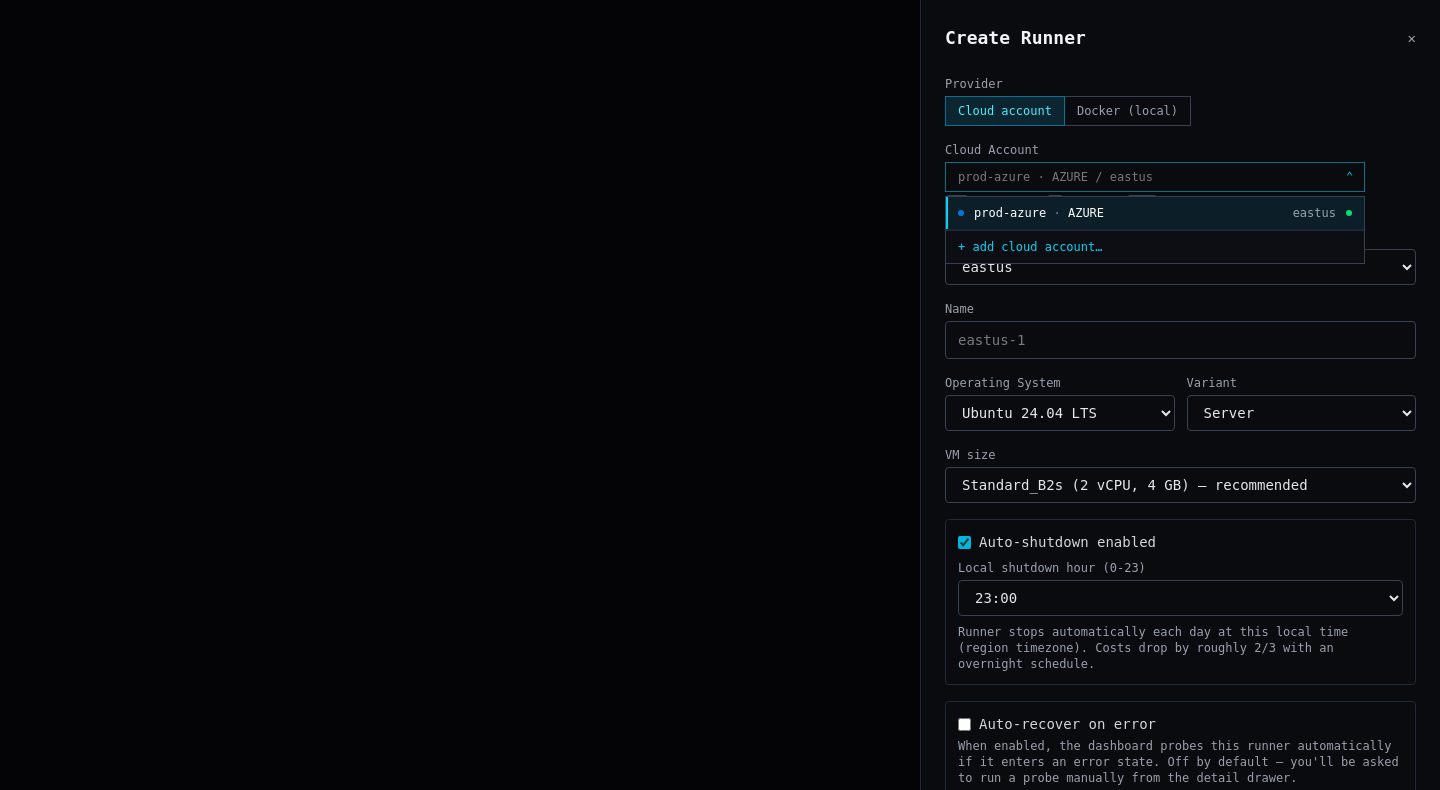
Scenario: CreateTesterModal — Docker (local) provider › switching back to Cloud account restores the account-backed provider
What coordinates should you click on to do the following:
click the radio button labelled "Docker (local)"
I would click on:
 (1128, 111)
Its box is [1064,96,1191,126].
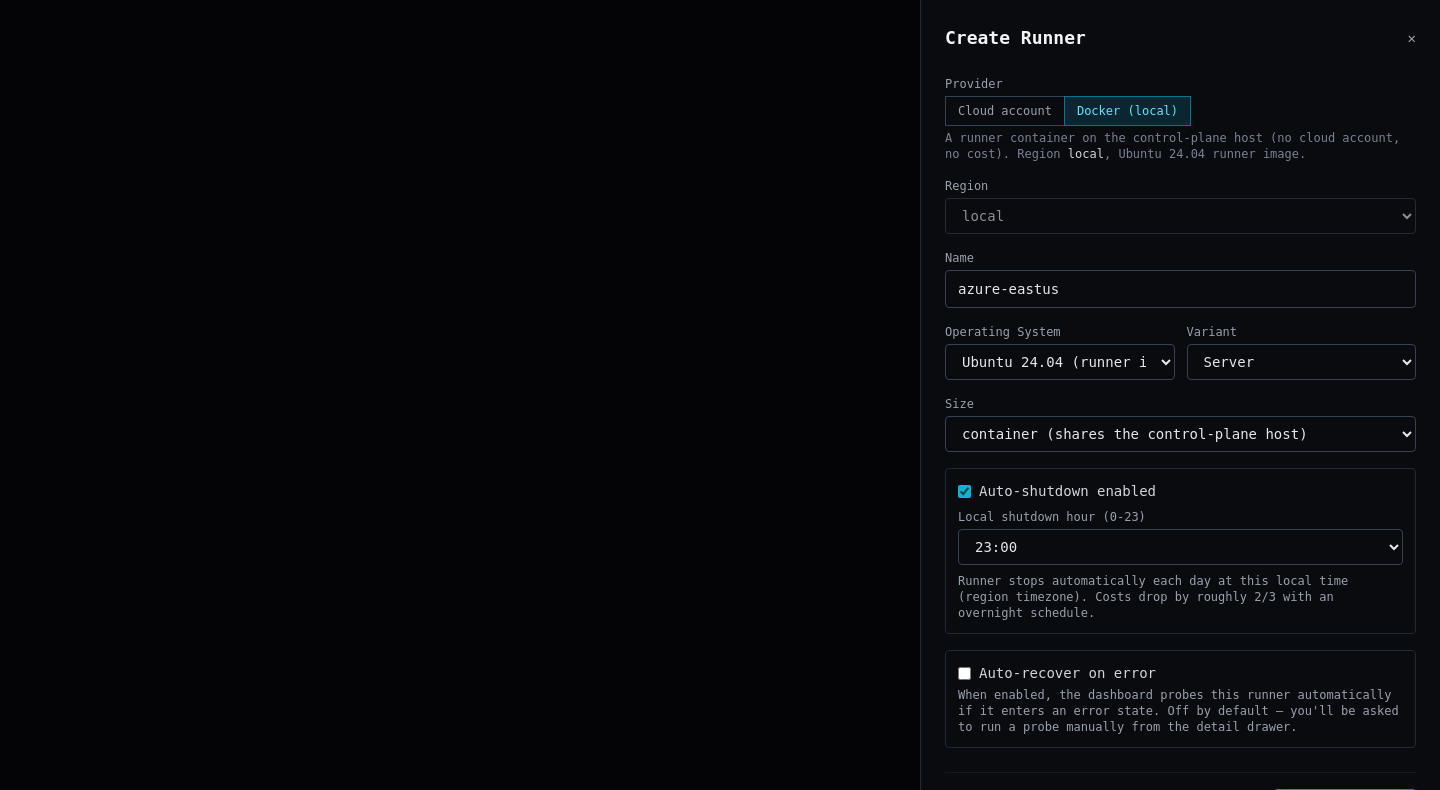
Expected: the dropdown labelled "Region" shows "local", [945,198,1416,234]
What coordinates should you click on to do the following:
click the radio button labelled "Cloud account"
I would click on:
 (1005, 111)
Its box is [945,96,1065,126].
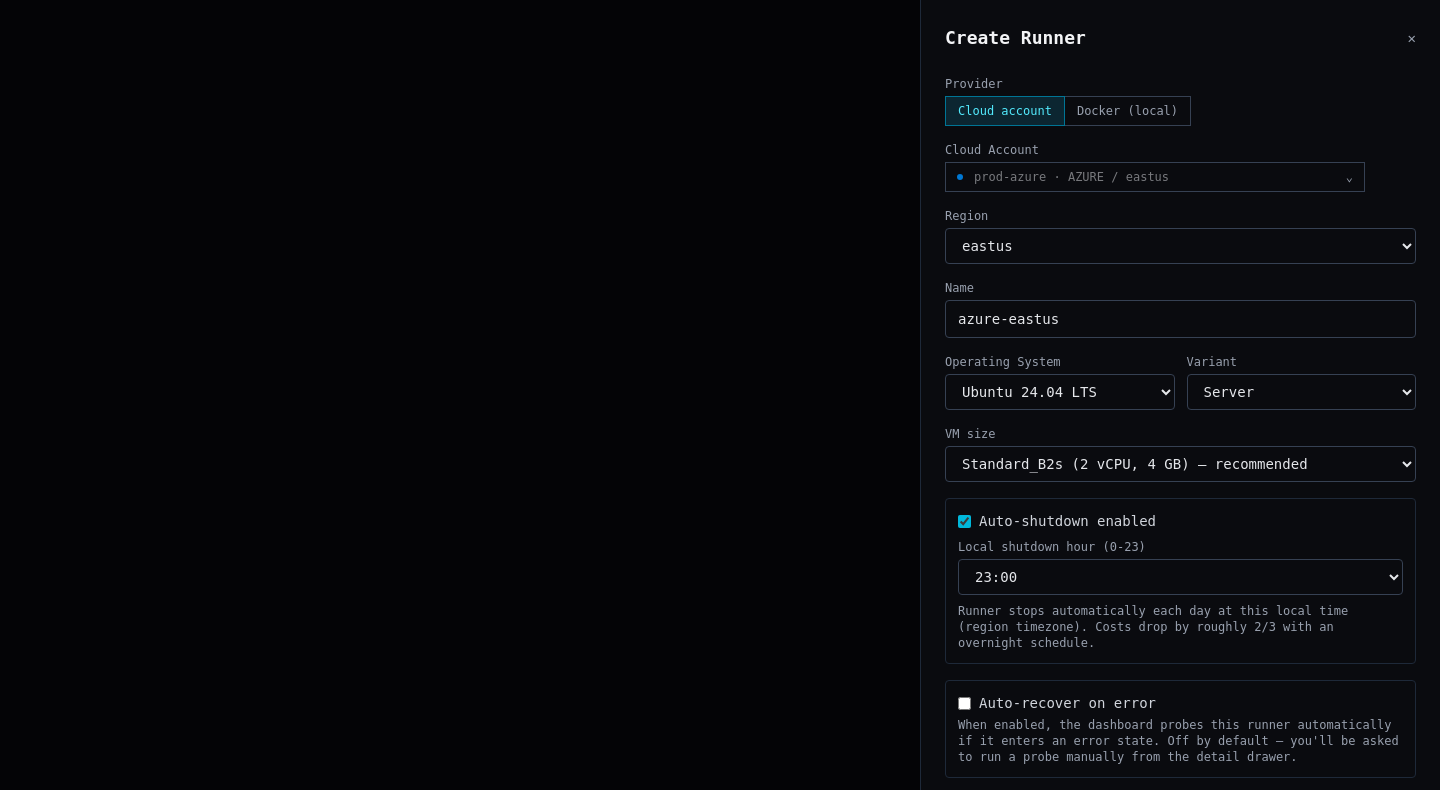
Expected: the dropdown labelled "Region" shows "eastus", [945,228,1416,264]
Expected: the dropdown labelled "Region" is enabled, [945,228,1416,264]
Expected: the dropdown labelled "VM size" shows "Standard_B2s (2 vCPU, 4 GB) — recommended", [945,446,1416,482]
